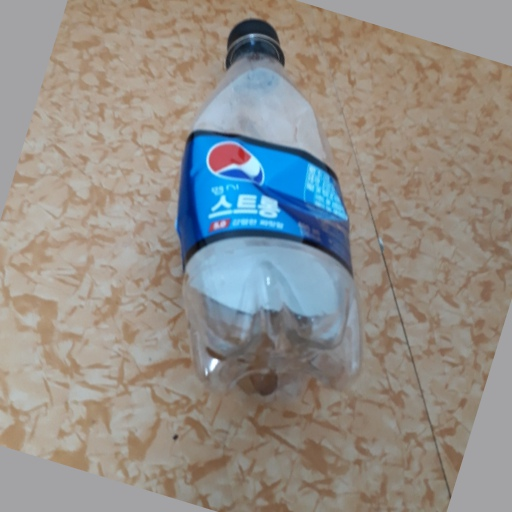Plastic_0: (177, 17, 364, 401)
